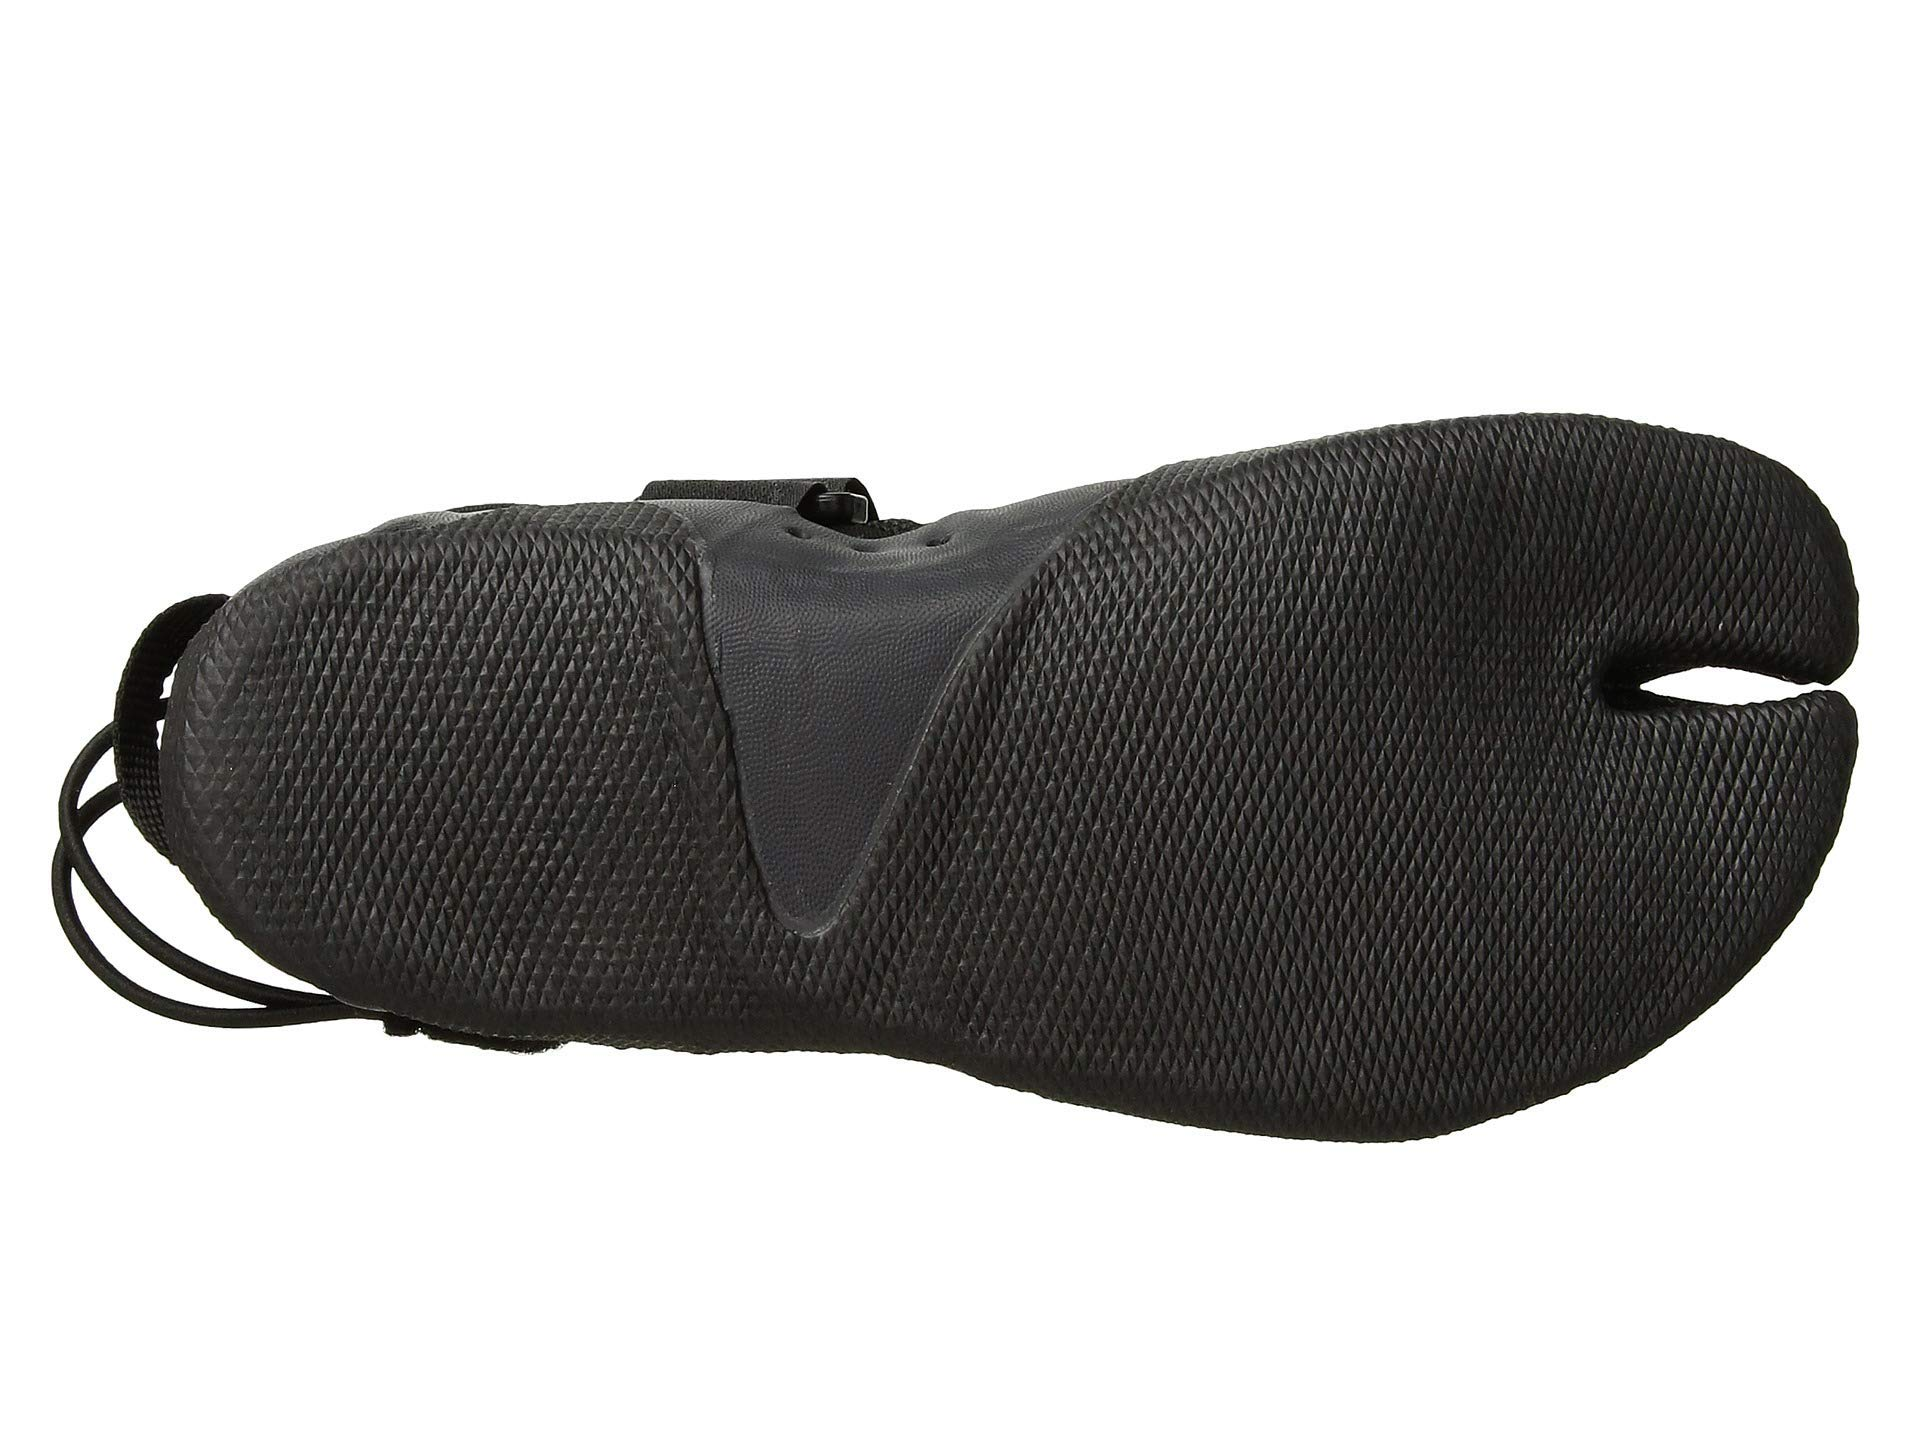quad: (1194, 476, 1486, 1063), (342, 584, 612, 944), (958, 681, 1203, 1065), (1538, 743, 1752, 959), (1550, 436, 1767, 638)
